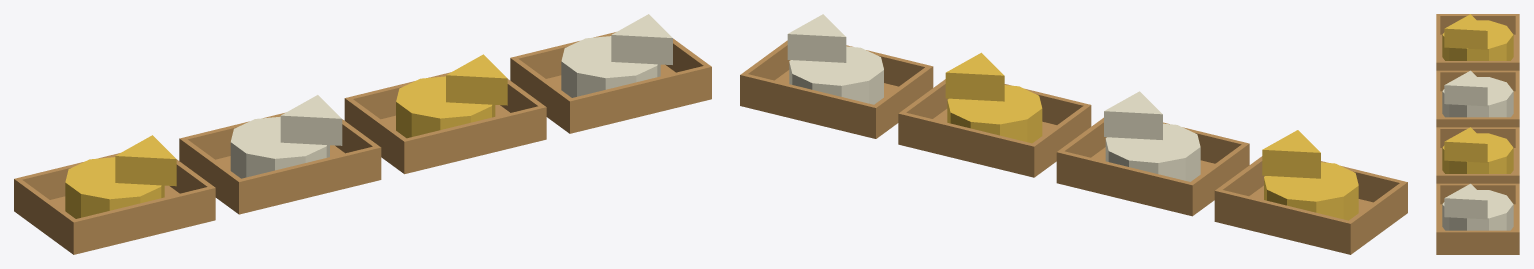
File: market_food_cheese.glb
The picture shows the model from 3 angles, left to right: view 1: azimuth 30°, elevation 25°; view 2: azimuth 150°, elevation 25°; view 3: azimuth 270°, elevation 25°; orthographic projection. The views are drawn at different scales.
Parts seen in each view (by area): view 1: crate_crate_wood, goods_cheese_white (×2), goods_cheese_yellow (×2); view 2: crate_crate_wood, goods_cheese_yellow (×2), goods_cheese_white (×2); view 3: crate_crate_wood, goods_cheese_white (×2), goods_cheese_yellow (×2).
Part boxes in pixels (x1=…): crate_crate_wood: x1=14, y1=32, x2=711, y2=254; goods_cheese_white (×2): x1=230, y1=14, x2=672, y2=178; goods_cheese_yellow (×2): x1=65, y1=54, x2=507, y2=218; crate_crate_wood: x1=740, y1=40, x2=1407, y2=254; goods_cheese_yellow (×2): x1=945, y1=52, x2=1358, y2=220; goods_cheese_white (×2): x1=787, y1=14, x2=1200, y2=181; crate_crate_wood: x1=1436, y1=14, x2=1519, y2=254; goods_cheese_white (×2): x1=1442, y1=70, x2=1513, y2=230; goods_cheese_yellow (×2): x1=1442, y1=14, x2=1513, y2=173.
Bounding box in the file's own units: 2.47 × 0.24 × 0.4.
